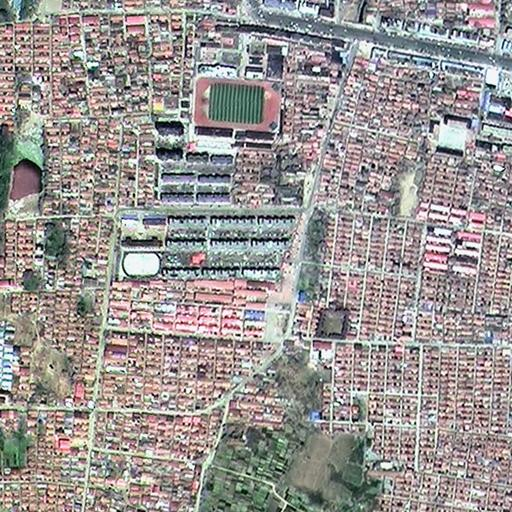school: (188, 37, 286, 132), (115, 213, 166, 284)
